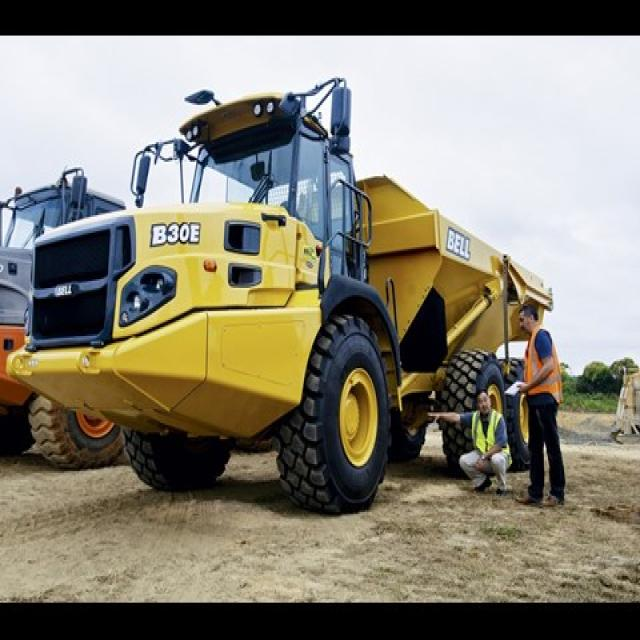dump_truck: (19, 77, 582, 519)
